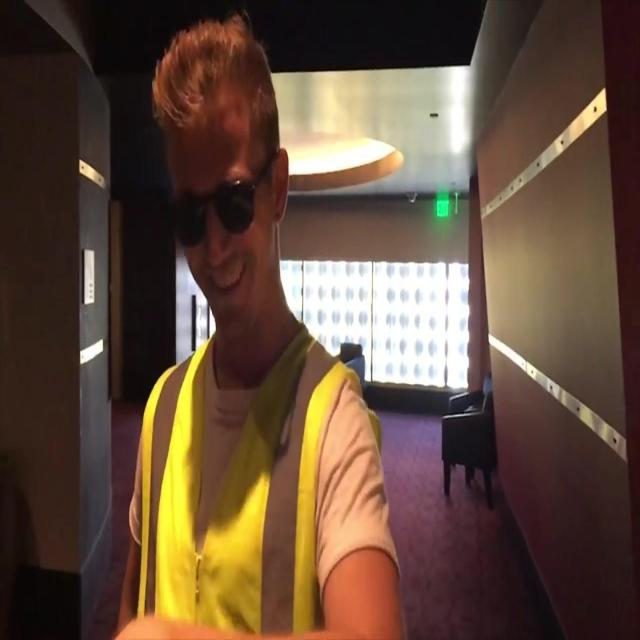Vest: (136, 319, 382, 633)
